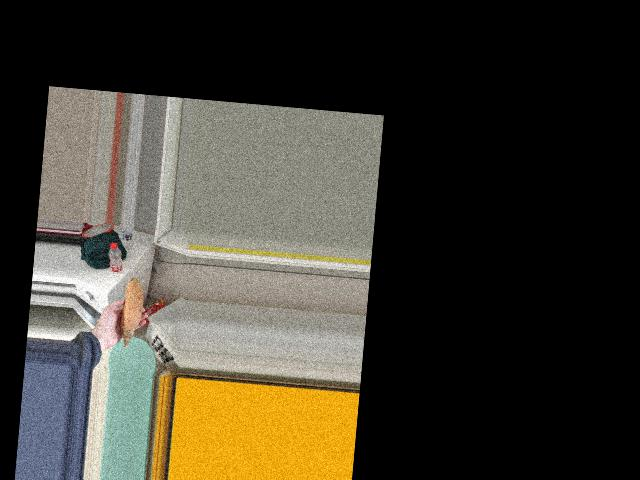sweet_potato: (116, 271, 145, 334)
